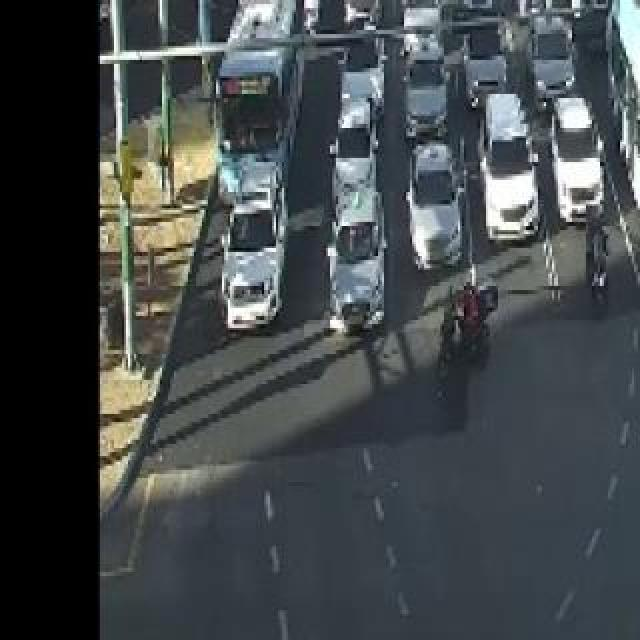motorbike: (434, 270, 500, 434)
truck: (610, 0, 640, 302)
